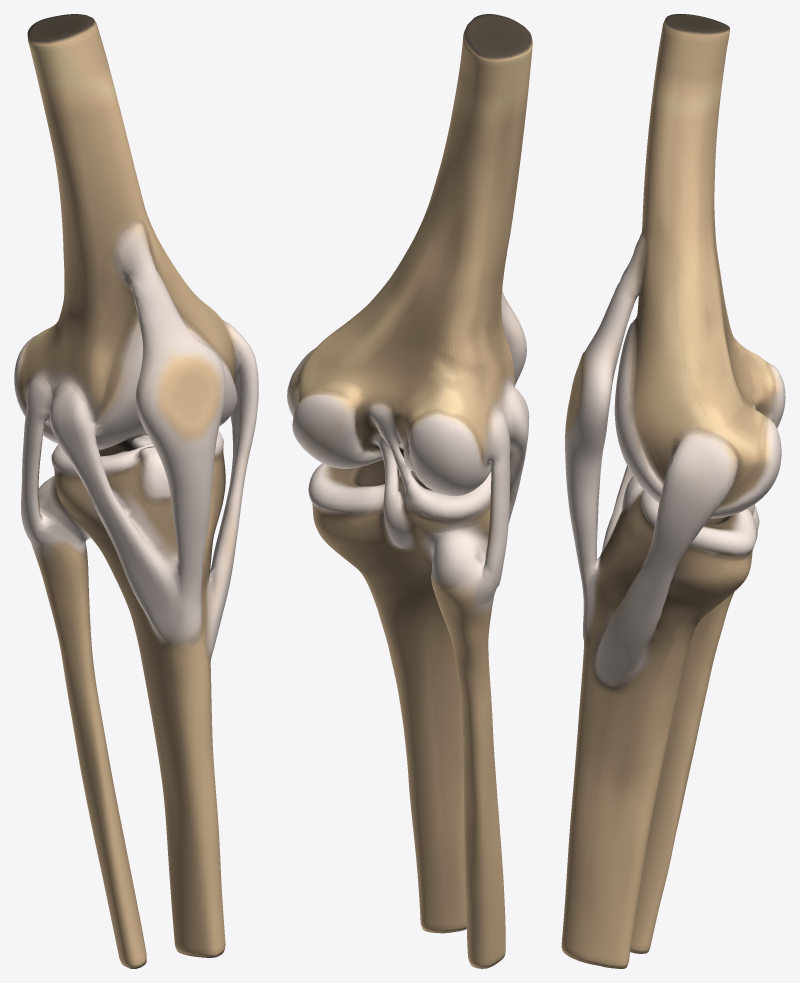
Rendered from Knee.obj.
3 renders of one model, left to right at view 1: azimuth 30°, elevation 25°; view 2: azimuth 150°, elevation 25°; view 3: azimuth 270°, elevation 25°, orthographic. The views are drawn at different scales.
Parts seen in each view (by area): view 1: Knee_joint; view 2: Knee_joint; view 3: Knee_joint.
Boxes of the visible parts, box(x1,y1,x2,y2) form: Knee_joint: box(14, 14, 258, 968); Knee_joint: box(287, 14, 532, 968); Knee_joint: box(561, 14, 785, 968).
Bounding box in the file's own units: 0.4686 × 1.9 × 0.4223.
